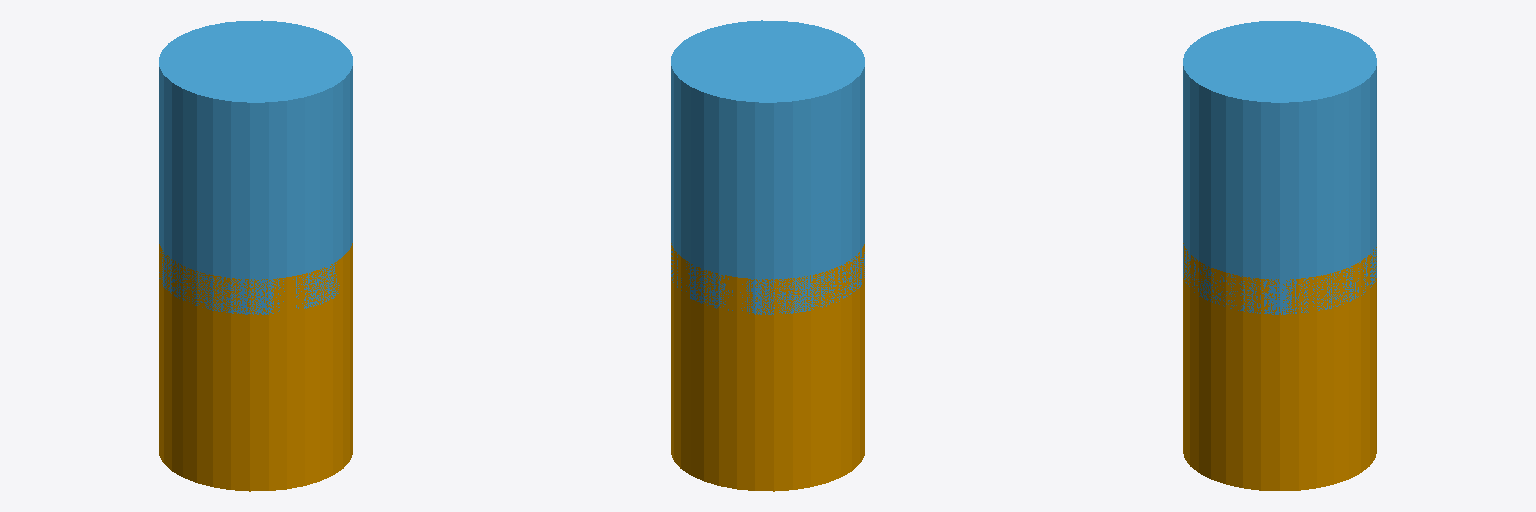
The robot description file, URDF, robot "myfirst":
<?xml version="1.0"?>
<robot name="myfirst">
  <!-- Base link definition -->
  <link name="base_link">
    <inertial>
      <mass value="0.25"/>
      <inertia ixx="0.0003" iyy="0.0003" izz="0.0003" ixy="0" ixz="0" iyz="0"/>
    </inertial>
    <visual>
      <geometry>
        <cylinder length="0.6" radius="0.25"/>
      </geometry>
    </visual>
    <collision>
      <geometry>
        <cylinder length="0.6" radius="0.25"/>
      </geometry>
    </collision>
  </link>

  <!-- Additional link definition -->
  <link name="sub_link">
    <!-- Inertial, visual, and collision elements for the sub_link -->
    <inertial>
      <mass value="0.1"/>
      <inertia ixx="0.0001" iyy="0.0001" izz="0.0001" ixy="0" ixz="0" iyz="0"/>
    </inertial>
    <!-- Define visual and collision properties for sub_link as needed -->
    <visual>
      <geometry>
        <cylinder length="0.6" radius="0.25"/>
      </geometry>
    </visual>
    <collision>
      <geometry>
        <cylinder length="0.6" radius="0.25"/>
      </geometry>
    </collision>
  </link>

  <!-- Joint connecting base_link to sub_link -->
  <joint name="base_to_sub" type="revolute">
    <parent link="base_link"/>
    <child link="sub_link"/>
    <origin xyz="0 0 0.5" rpy="0 0 0"/> <!-- Adjust the xyz values as needed -->
    <axis xyz="1 0 0"/>
    <limit effort="10" upper="0" lower="10" velocity="1"/>
  </joint>
</robot>

--- Render facts (derived) ---
3 views of the same robot in one strip: view 1: azimuth 30°, elevation 25°; view 2: azimuth 150°, elevation 25°; view 3: azimuth 270°, elevation 25° (orthographic).
Robot: myfirst — 2 links, 1 joints (1 revolute); root link base_link; default pose: all joints at 0.
Links seen in each view (by area): view 1: sub_link, base_link; view 2: sub_link, base_link; view 3: sub_link, base_link.
Link boxes in pixels (x1,y1,x2,y2): sub_link: (159,20,352,314); base_link: (159,243,352,491); sub_link: (671,20,864,314); base_link: (671,243,864,491); sub_link: (1183,21,1376,314); base_link: (1183,243,1376,490).
Bounding box of the posed robot: 0.5 × 0.5 × 1.1 m (x, y, z).
Geometry: primitives only (box / cylinder / sphere), no mesh files.
